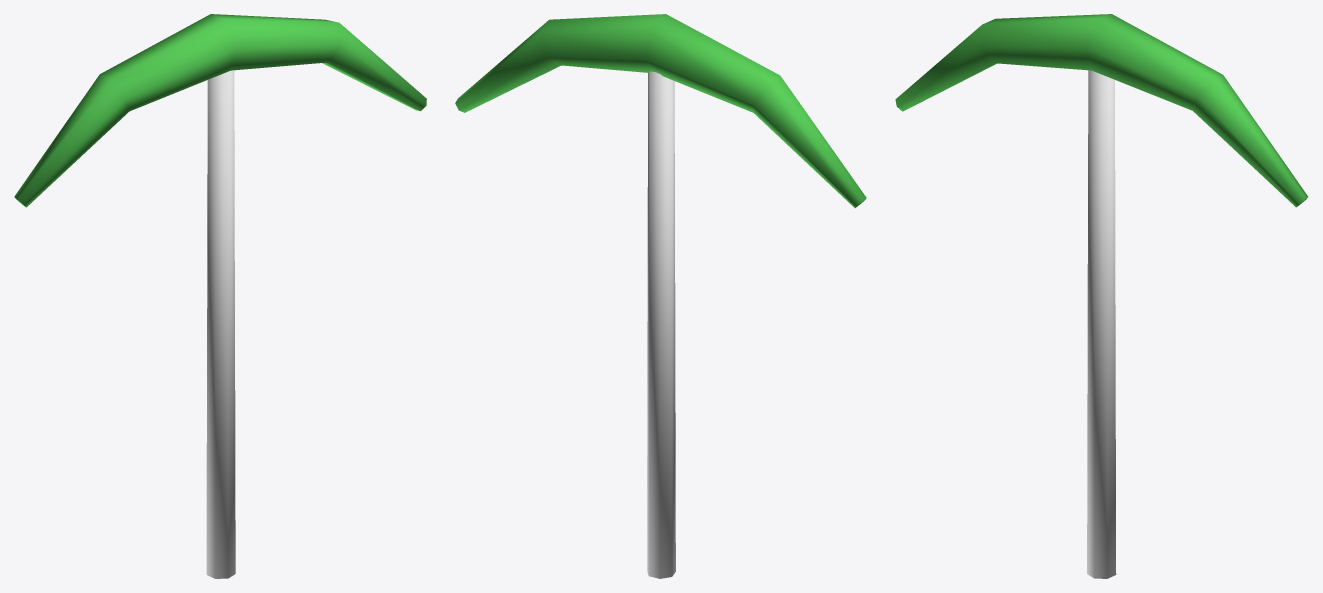
File: chlorophyte_pickaxe.glb
3 renders of one model, left to right at view 1: azimuth 30°, elevation 25°; view 2: azimuth 150°, elevation 25°; view 3: azimuth 330°, elevation 25°, orthographic.
Parts seen in each view (by area): view 1: chlorophyte_pickaxe_v0; view 2: chlorophyte_pickaxe_v0; view 3: chlorophyte_pickaxe_v0.
Boxes of the visible parts, x1,y1,x2,y2 form: chlorophyte_pickaxe_v0: (14,14,426,578); chlorophyte_pickaxe_v0: (455,14,866,578); chlorophyte_pickaxe_v0: (895,14,1307,578).
Bounding box in the file's own units: 0.6949 × 0.9026 × 0.0883.
